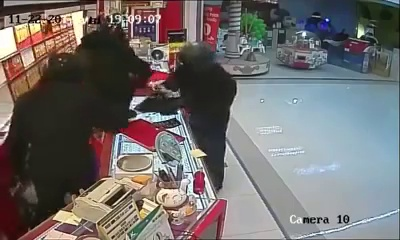helmet: (38, 52, 84, 82), (179, 39, 215, 77)
